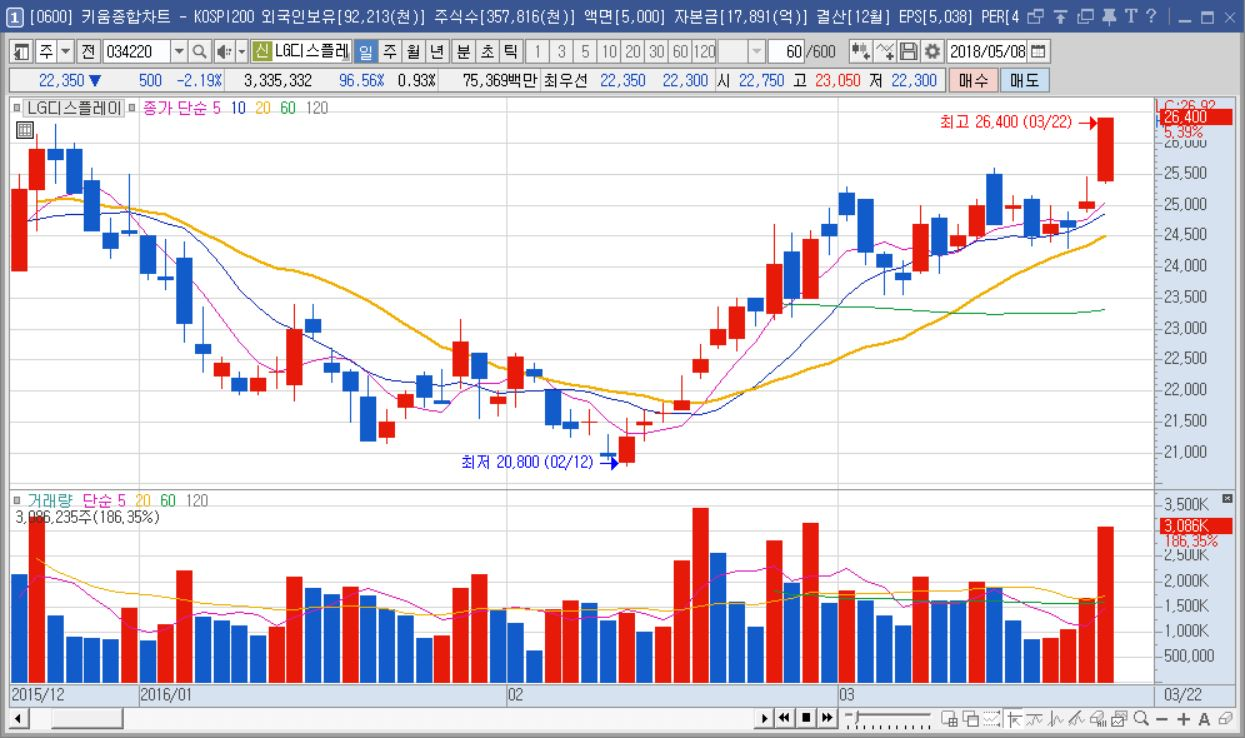up: (619, 112, 1116, 684)
